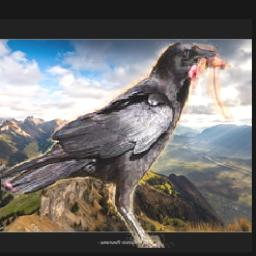Crow: (1, 33, 244, 248)
